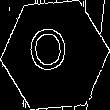O_S: (34, 28, 76, 82)
